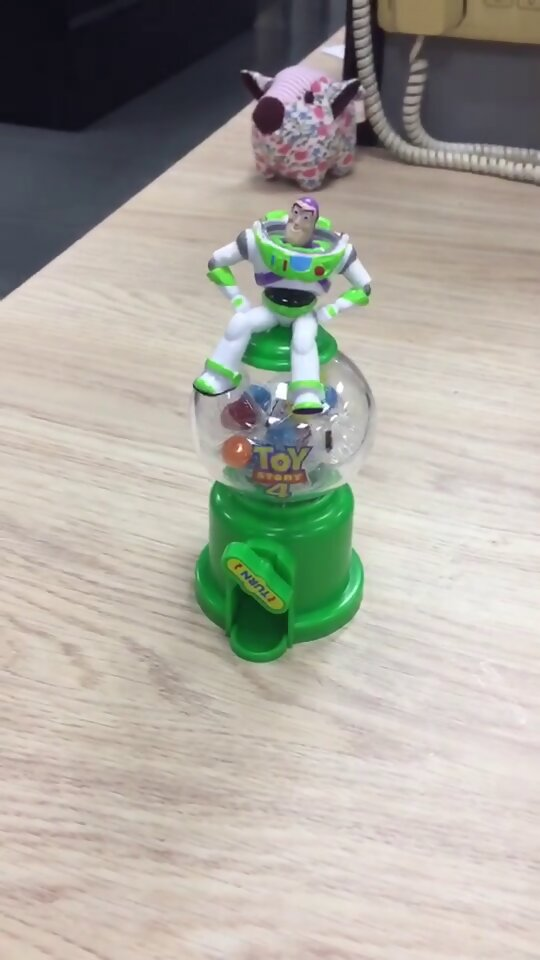buzz: (188, 196, 377, 669)
